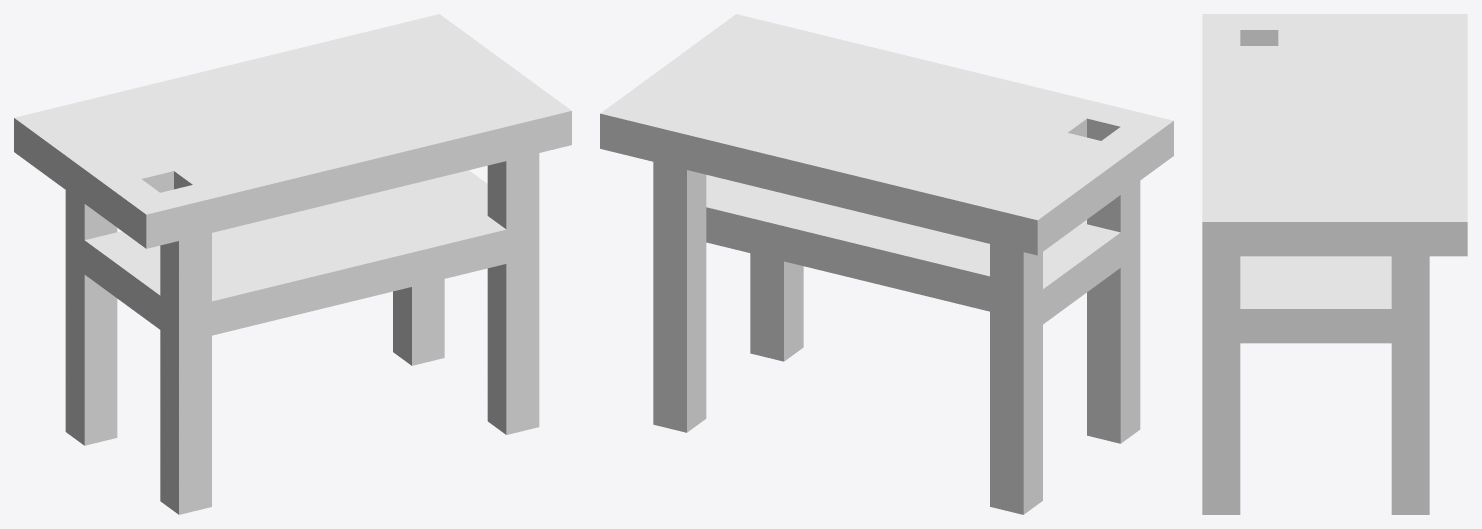
File: banco.gltf
3 views of the same model, side by side, from view 1: azimuth 30°, elevation 25°; view 2: azimuth 150°, elevation 25°; view 3: azimuth 270°, elevation 25° (orthographic). The views are drawn at different scales.
Parts seen in each view (by area): view 1: Layer.3, Layer.1, Layer.2; view 2: Layer.3, Layer.1, Layer.2; view 3: Layer.3, Layer.1, Layer.2.
Boxes of the visible parts, <box> form: Layer.3: <box>14,14,571,248</box>; Layer.1: <box>65,153,539,514</box>; Layer.2: <box>118,178,487,282</box>; Layer.3: <box>600,14,1173,255</box>; Layer.1: <box>653,162,1140,514</box>; Layer.2: <box>706,183,1086,311</box>; Layer.3: <box>1202,14,1467,256</box>; Layer.1: <box>1202,256,1429,514</box>; Layer.2: <box>1240,256,1391,292</box>.
Size of the model in its own units: 13 by 9 by 7.
1 material, 1 textured.
